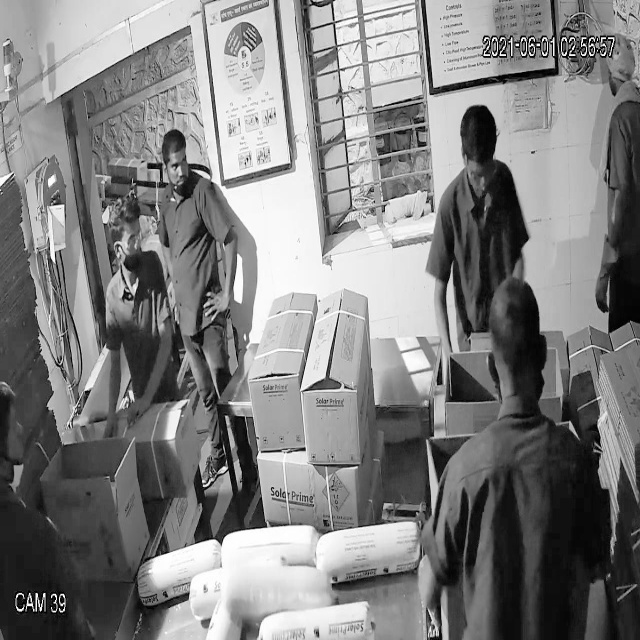Gafas: (108, 224, 145, 261)
